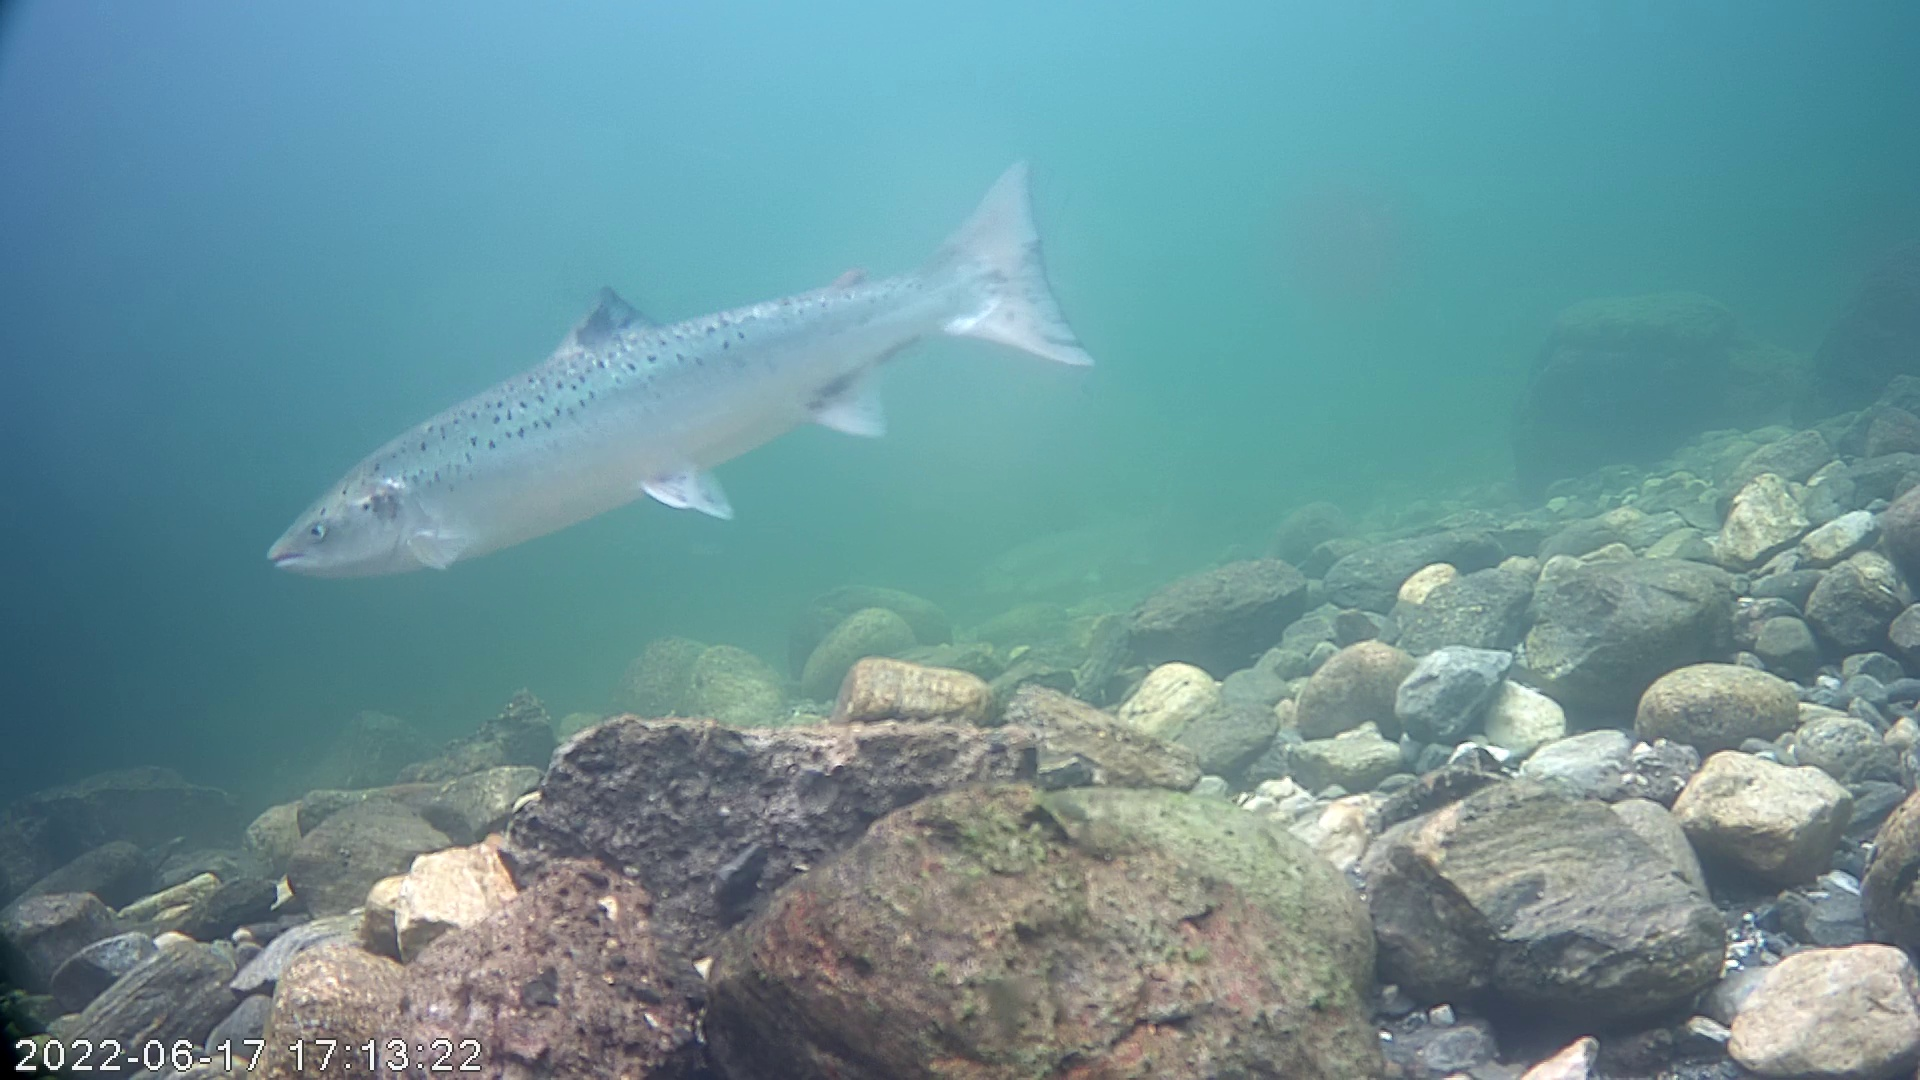salmon: (258, 149, 1095, 580)
